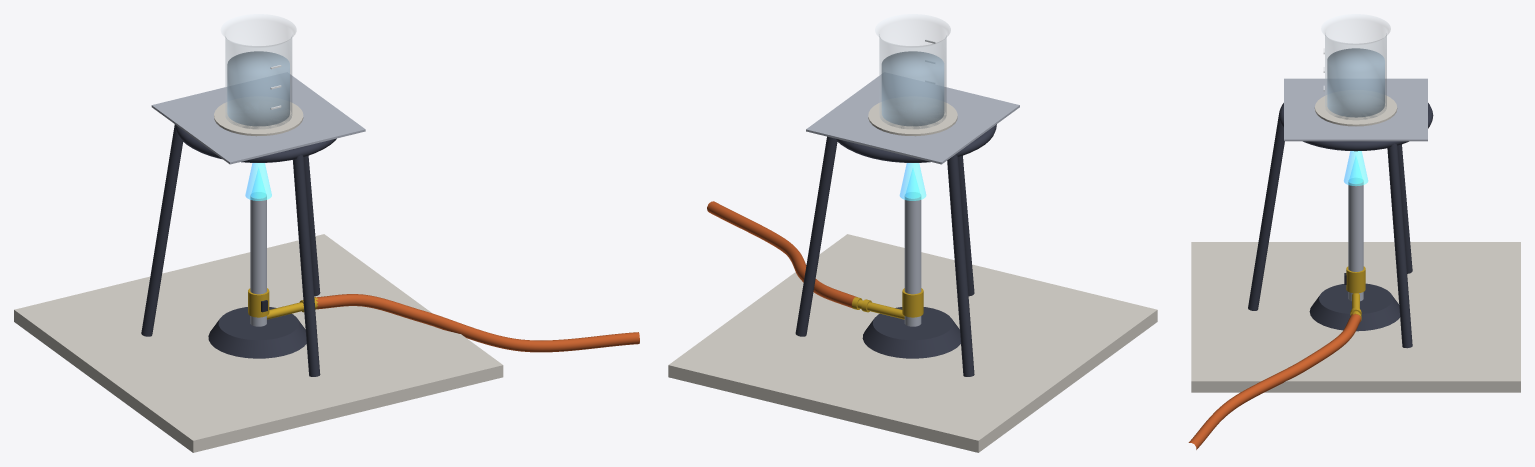
Rendered from sch-014.glb.
3 renders of one model, left to right at view 1: azimuth 30°, elevation 25°; view 2: azimuth 150°, elevation 25°; view 3: azimuth 270°, elevation 25°, orthographic. The views are drawn at different scales.
Visible parts, largest first — view 1: ceramic, dark_steel, steel, lab_glass, liquid_water, rubber_hose, brass, flame; view 2: ceramic, dark_steel, steel, lab_glass, liquid_water, rubber_hose, brass, flame; view 3: ceramic, dark_steel, steel, lab_glass, liquid_water, rubber_hose, brass, flame.
Part boxes in pixels (x1,y1,x2,y2): ceramic: (14, 97, 503, 452); dark_steel: (141, 124, 336, 376); steel: (151, 72, 365, 326); lab_glass: (221, 14, 296, 128); liquid_water: (227, 51, 289, 126); rubber_hose: (315, 294, 639, 352); brass: (248, 288, 318, 319); flame: (245, 163, 271, 200); ceramic: (668, 97, 1157, 452); dark_steel: (795, 124, 996, 376); steel: (806, 73, 1019, 326); lab_glass: (875, 14, 950, 128); liquid_water: (881, 51, 944, 126); rubber_hose: (707, 201, 857, 308); brass: (851, 288, 923, 319); flame: (899, 163, 926, 200); ceramic: (1191, 90, 1520, 392); dark_steel: (1248, 103, 1433, 348); steel: (1284, 78, 1427, 301); lab_glass: (1321, 14, 1390, 119); liquid_water: (1327, 48, 1384, 117); rubber_hose: (1188, 313, 1360, 449); brass: (1346, 266, 1365, 321); flame: (1344, 151, 1368, 185).
Bounding box in the file's own units: 0.462 × 0.3156 × 0.3249.
